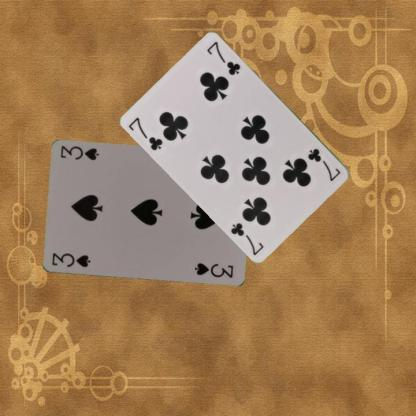3s: (49, 250, 91, 269)
7c: (126, 114, 164, 152), (305, 146, 343, 182)
